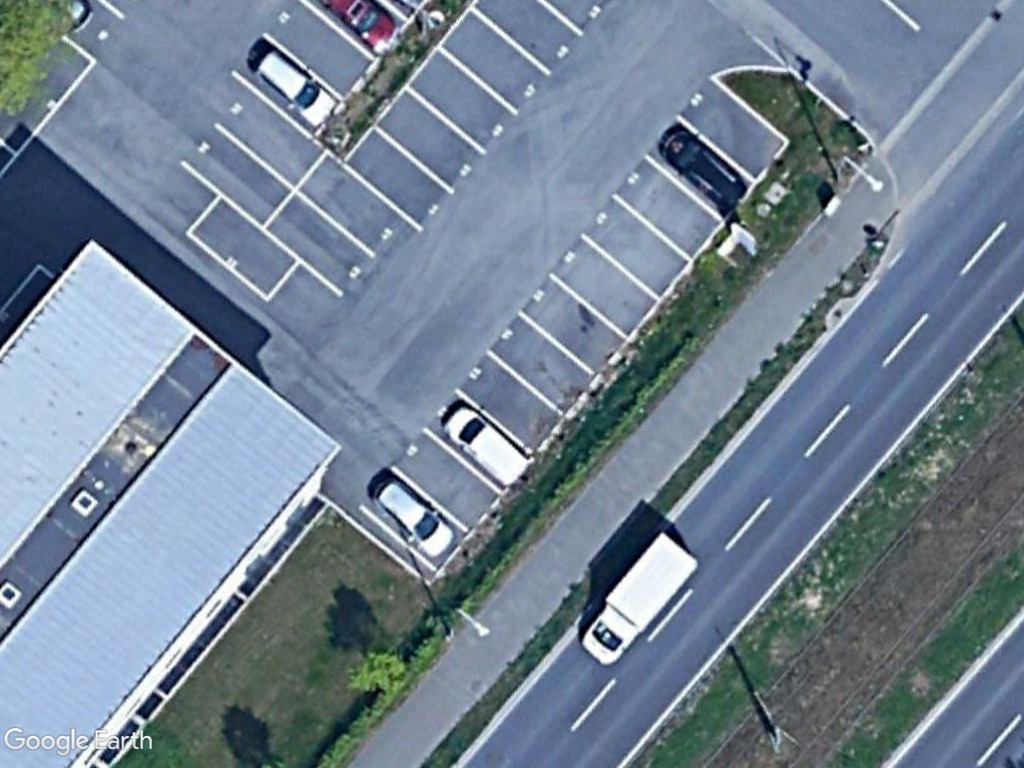car: (251, 46, 339, 130), (370, 475, 456, 560)
truck: (576, 529, 700, 669)
van: (441, 399, 532, 488)
